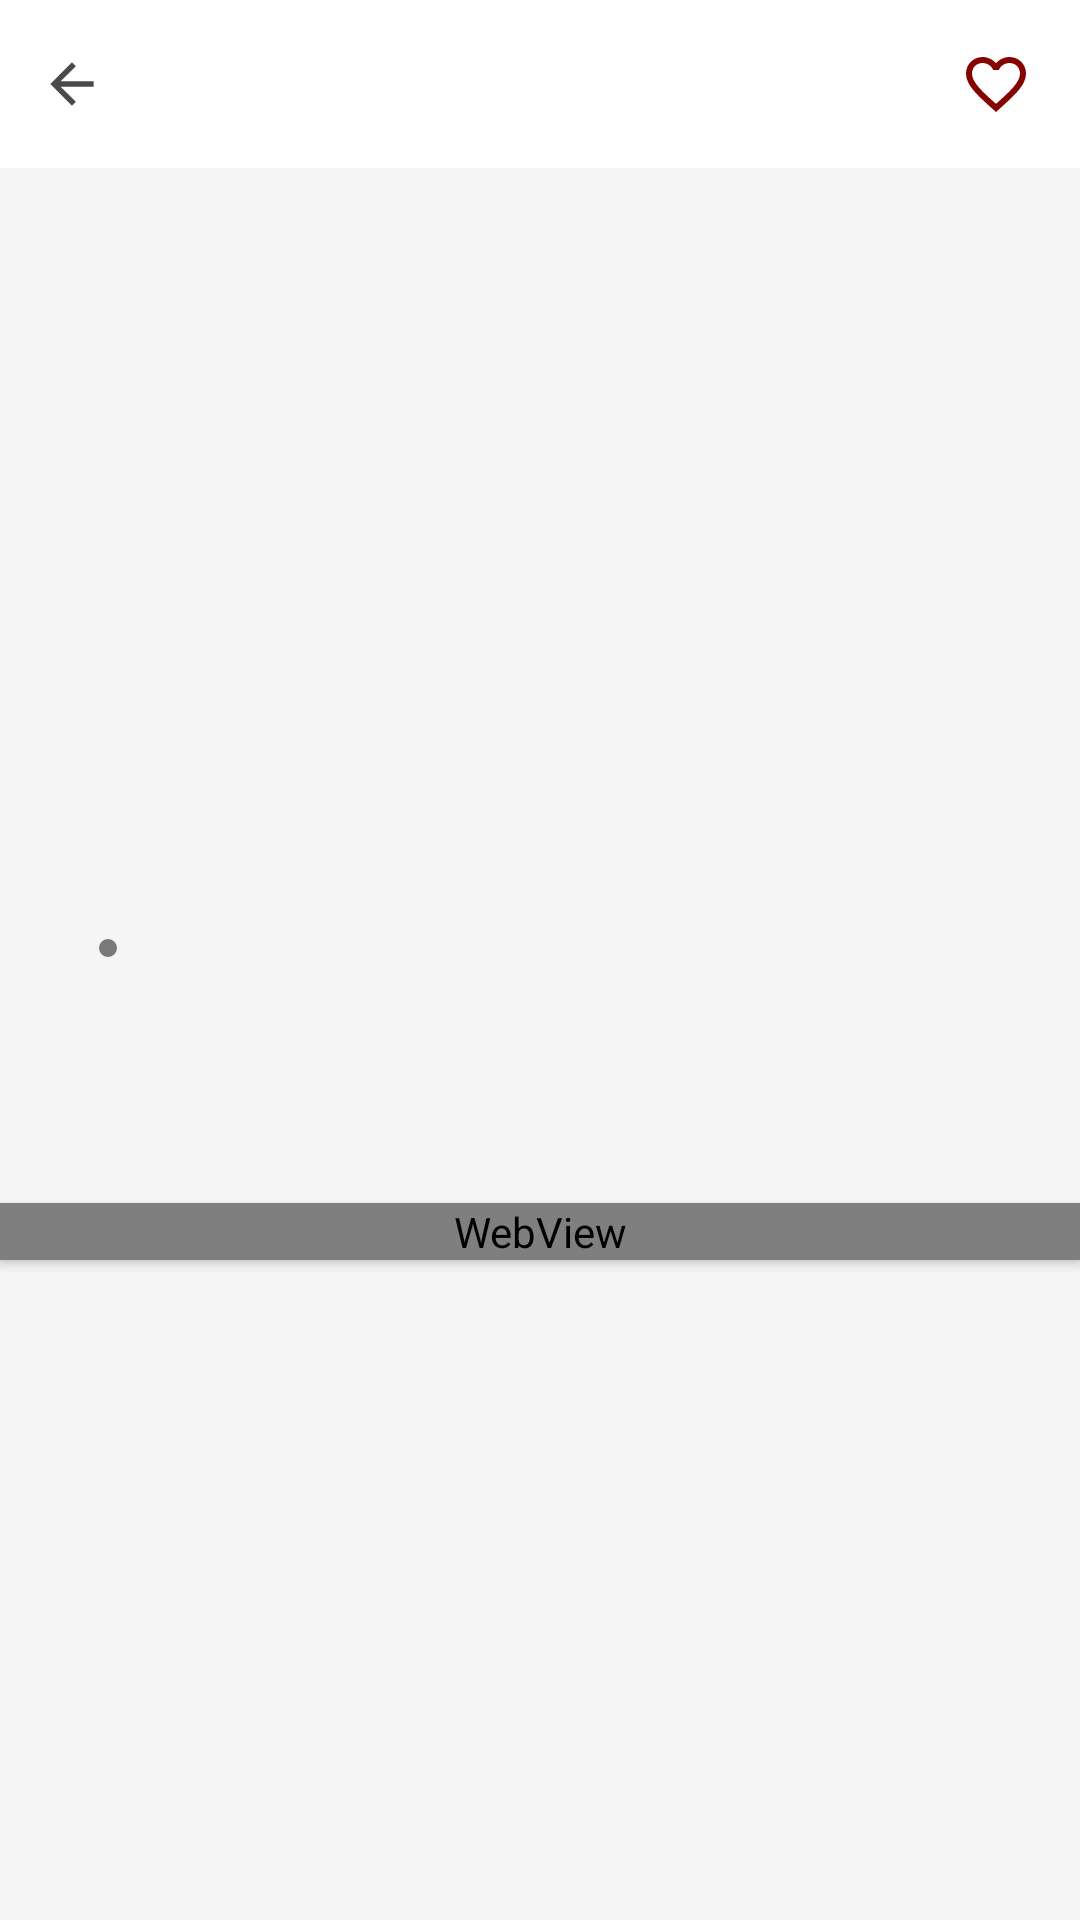

Locate icon controls on the screen. Image size 1080x1920, boxes as bbox(x1, y1, x2, y2).
back arrow: bbox(50, 62, 94, 106)
